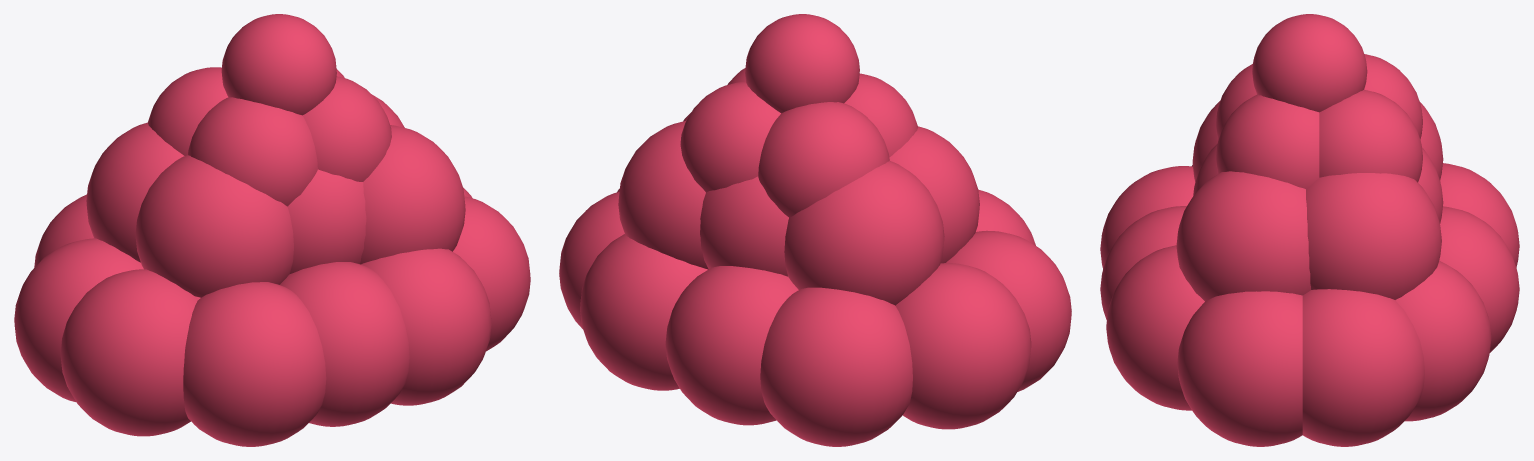
Rendered from base_bonbon_mure.dae.
3 views of the same model, side by side, from view 1: azimuth 30°, elevation 25°; view 2: azimuth 150°, elevation 25°; view 3: azimuth 270°, elevation 25° (orthographic).
Parts seen in each view (by area): view 1: Sphere_002; view 2: Sphere_002; view 3: Sphere_002.
Boxes of the visible parts, left/top/right/bottom form: Sphere_002: left=14, top=14, right=530, bottom=446; Sphere_002: left=559, top=14, right=1071, bottom=446; Sphere_002: left=1100, top=14, right=1519, bottom=446.
Size of the model in its own units: 3.57 by 2.88 by 2.65.
